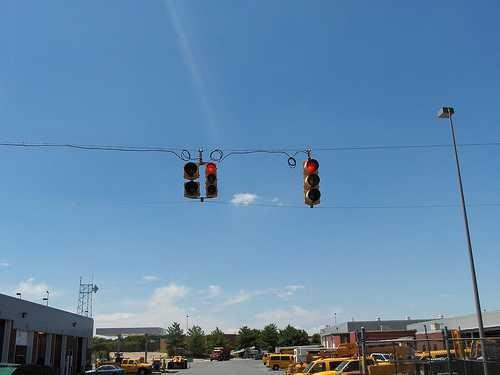red: (302, 159, 323, 207), (206, 162, 219, 198), (305, 159, 321, 173), (207, 161, 218, 174)
